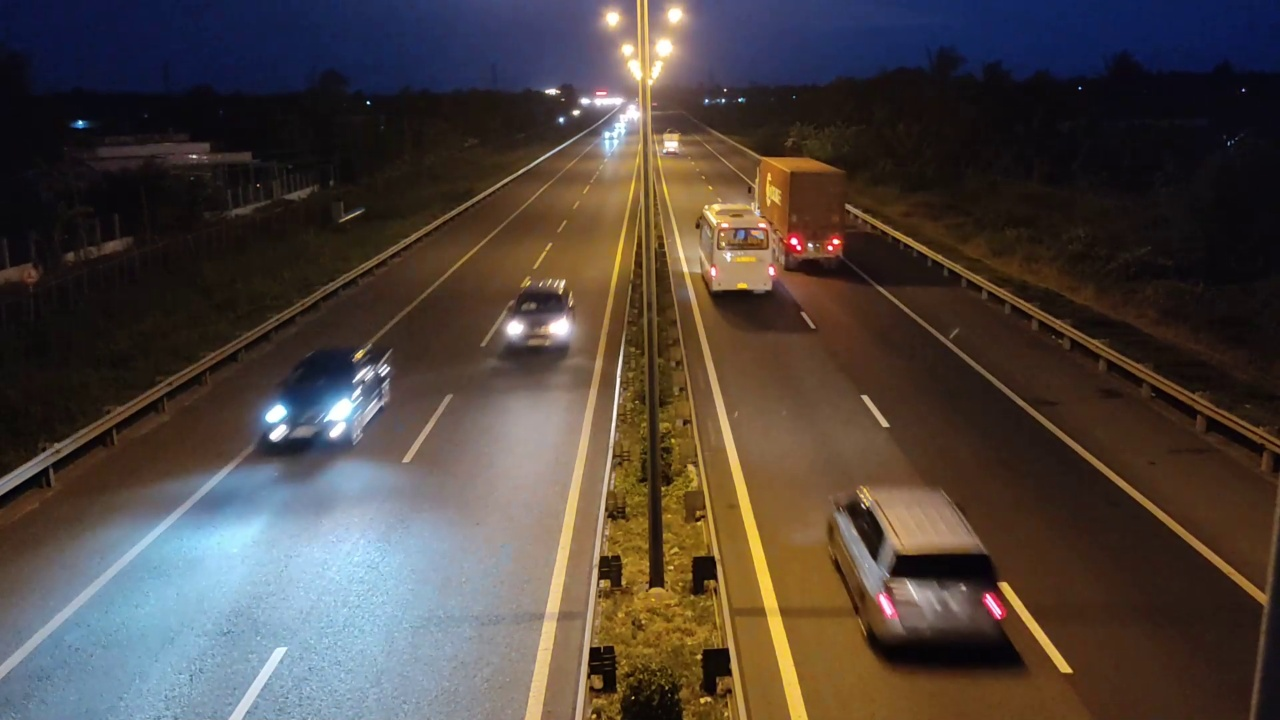bus: (695, 203, 777, 295)
car: (825, 483, 1013, 656), (258, 345, 394, 453), (501, 277, 575, 355)
truck: (753, 155, 847, 272)
